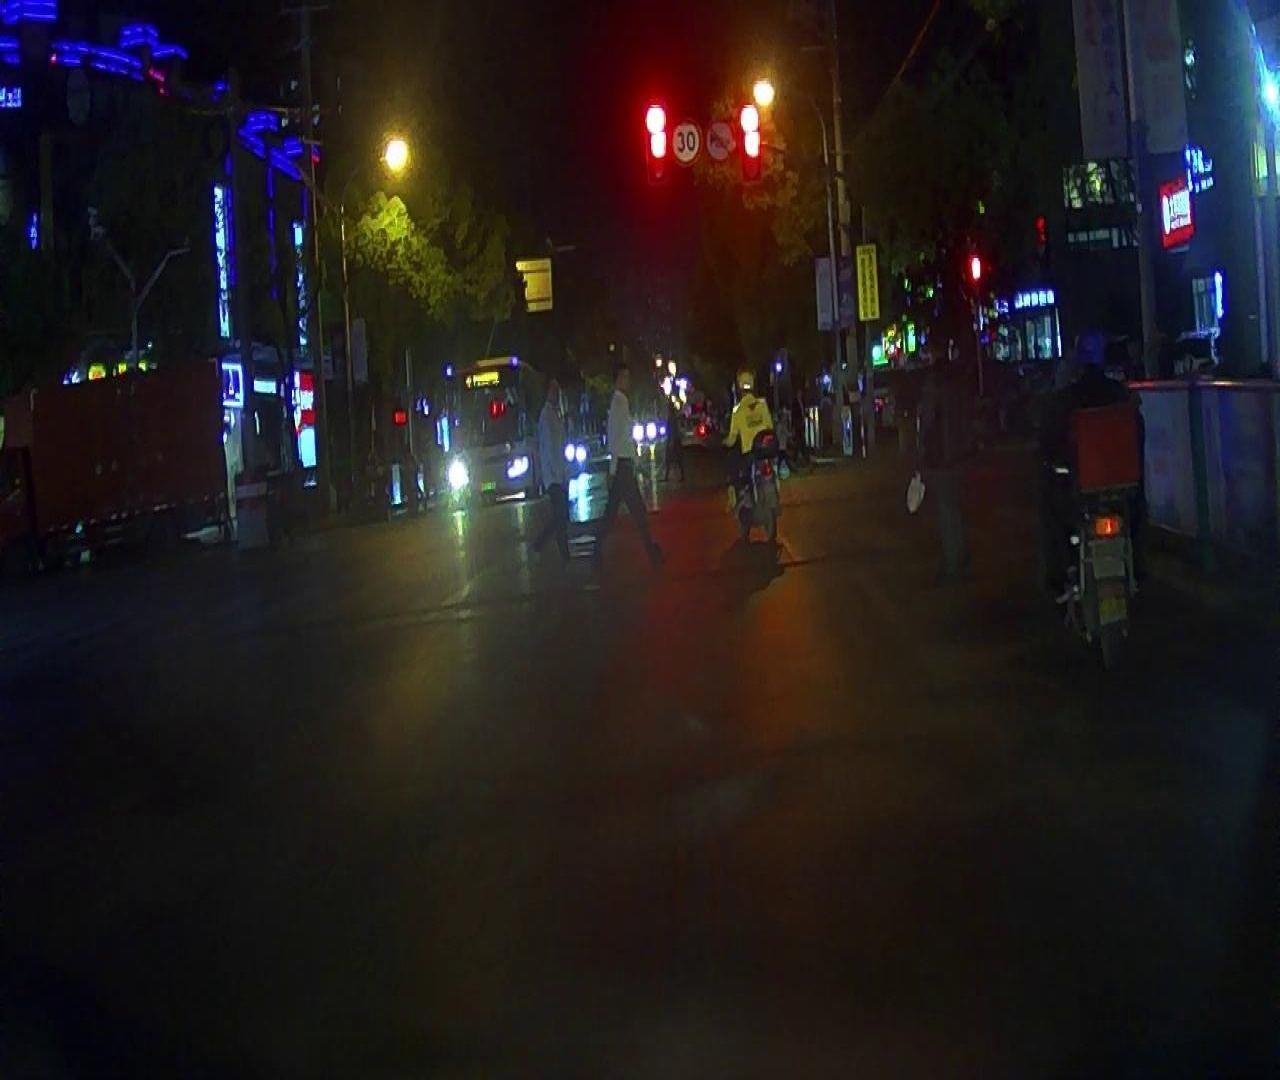red: (641, 93, 672, 172), (735, 97, 767, 168)
yellow: (382, 111, 413, 186)
